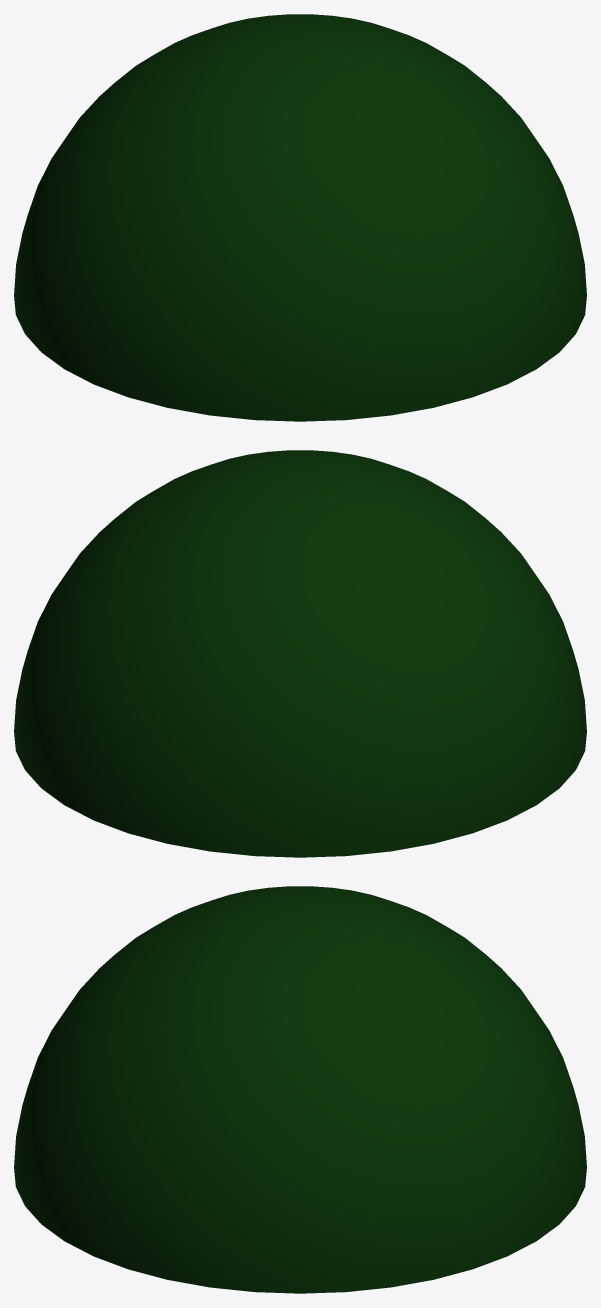
Rendered from ae_jsx_Hemisphere01.obj.
3 renders of one model, top to bottom at view 1: azimuth 30°, elevation 25°; view 2: azimuth 150°, elevation 25°; view 3: azimuth 270°, elevation 25°, orthographic.
Parts seen in each view (by area): view 1: Hemisphere01; view 2: Hemisphere01; view 3: Hemisphere01.
Part boxes in pixels (x1,y1,x2,y2): Hemisphere01: (14, 14, 586, 421); Hemisphere01: (14, 450, 586, 857); Hemisphere01: (14, 886, 586, 1293).
Size of the model in its own units: 0.9984 by 0.5 by 0.9992.
